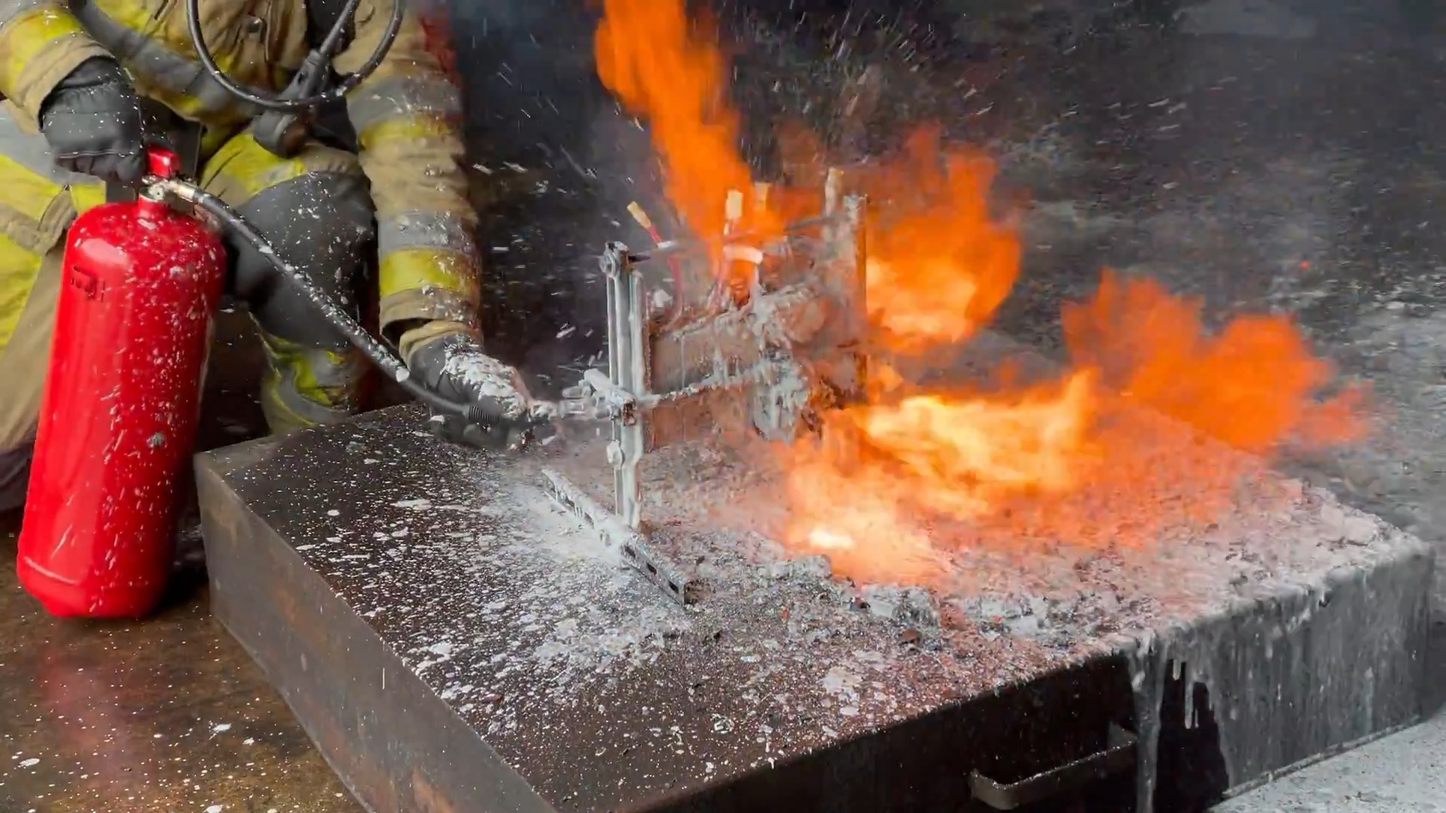fire: (593, 0, 1371, 591)
